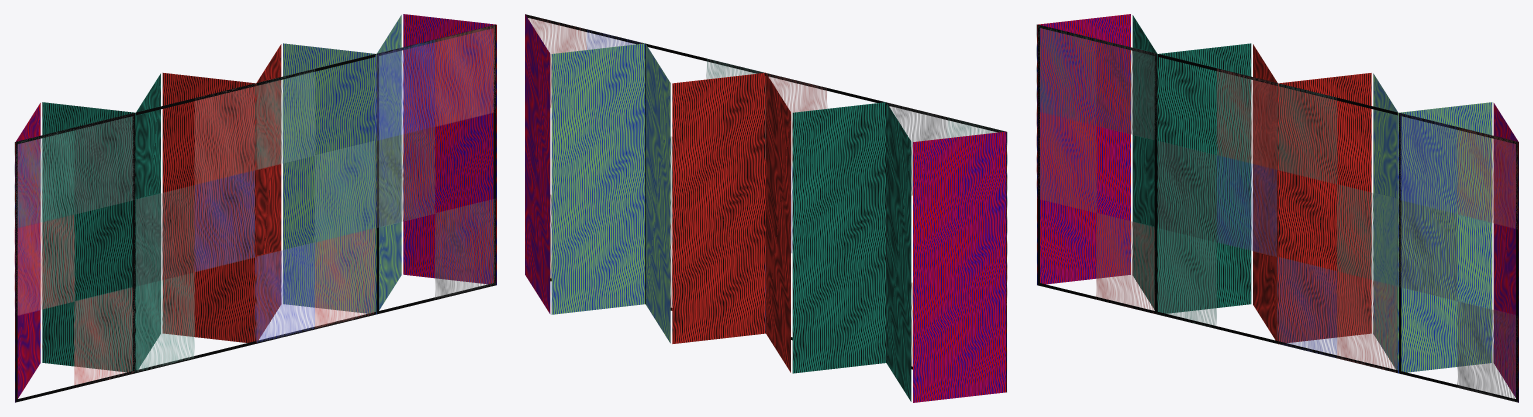
The model's file is windowsOpenings.glb.
The picture shows the model from 3 angles, left to right: view 1: azimuth 30°, elevation 25°; view 2: azimuth 150°, elevation 25°; view 3: azimuth 330°, elevation 25°; orthographic projection.
Visible parts, largest first — view 1: fins 11 15 26 A.005, larger panels, larger panels.002, larger panels.003, larger panels.001, frame.001; view 2: larger panels.001, larger panels, larger panels.003, larger panels.002, fins 11 15 26 A.005, frame.001; view 3: fins 11 15 26 A.005, larger panels.002, larger panels, larger panels.001, larger panels.003, frame.001.
Boxes of the visible parts, left/top/right/bottom form: fins 11 15 26 A.005: left=14, top=25, right=495, bottom=387; larger panels: left=256, top=43, right=376, bottom=340; larger panels.002: left=136, top=73, right=256, bottom=370; larger panels.003: left=15, top=102, right=135, bottom=402; larger panels.001: left=377, top=14, right=496, bottom=310; frame.001: left=15, top=24, right=496, bottom=402; larger panels.001: left=525, top=14, right=644, bottom=314; larger panels: left=645, top=44, right=765, bottom=343; larger panels.003: left=886, top=103, right=1006, bottom=402; larger panels.002: left=766, top=73, right=886, bottom=373; fins 11 15 26 A.005: left=528, top=15, right=1007, bottom=366; frame.001: left=525, top=14, right=1006, bottom=392; fins 11 15 26 A.005: left=1036, top=24, right=1517, bottom=401; larger panels.002: left=1157, top=43, right=1277, bottom=340; larger panels: left=1278, top=73, right=1398, bottom=370; larger panels.001: left=1398, top=102, right=1518, bottom=402; larger panels.003: left=1037, top=14, right=1157, bottom=314; frame.001: left=1037, top=24, right=1518, bottom=402.
Size of the model in its own units: 172 by 89 by 21.21.
Materials: 10 (9 with a texture image).
